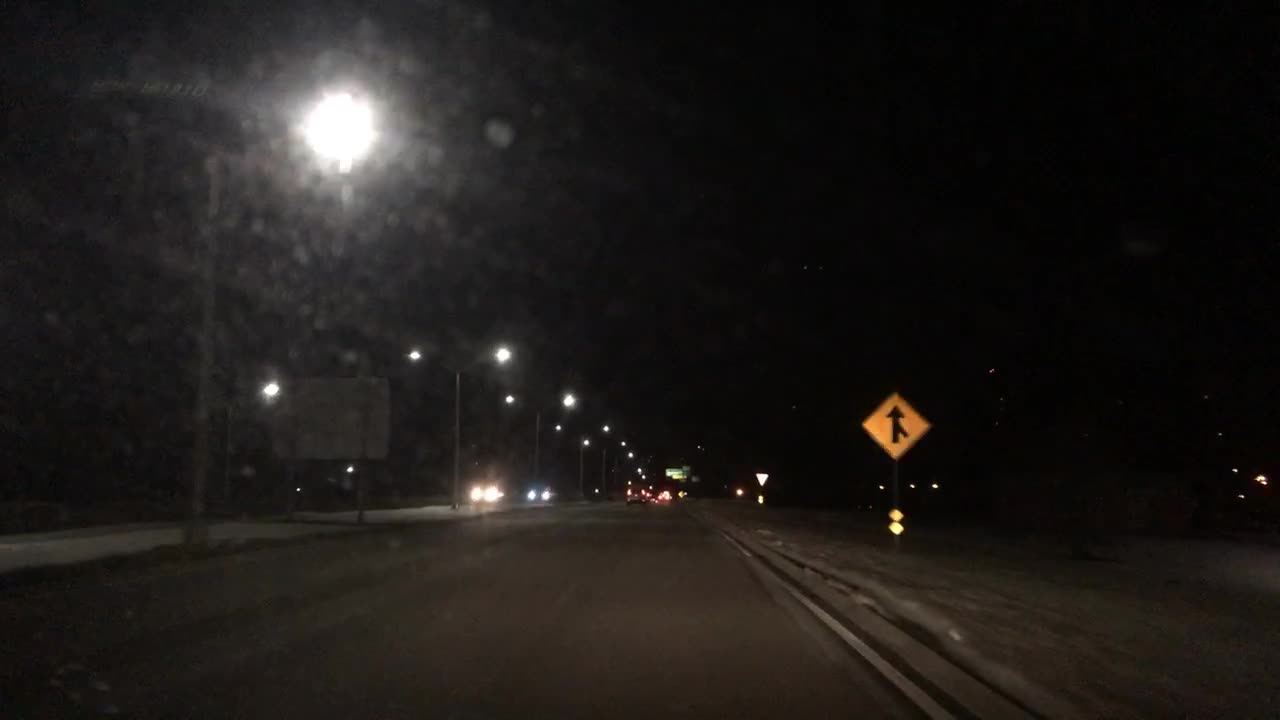car: (464, 480, 515, 504), (521, 482, 563, 505), (625, 482, 658, 506), (642, 488, 659, 503), (590, 485, 608, 496), (658, 490, 671, 501)
traffic light: (756, 494, 764, 504)
traffic sign: (273, 374, 392, 458), (859, 390, 932, 460), (240, 463, 257, 479), (754, 471, 771, 486), (886, 507, 904, 520), (888, 521, 903, 535), (664, 467, 688, 475), (671, 473, 686, 479), (678, 489, 685, 499), (681, 464, 689, 471)
